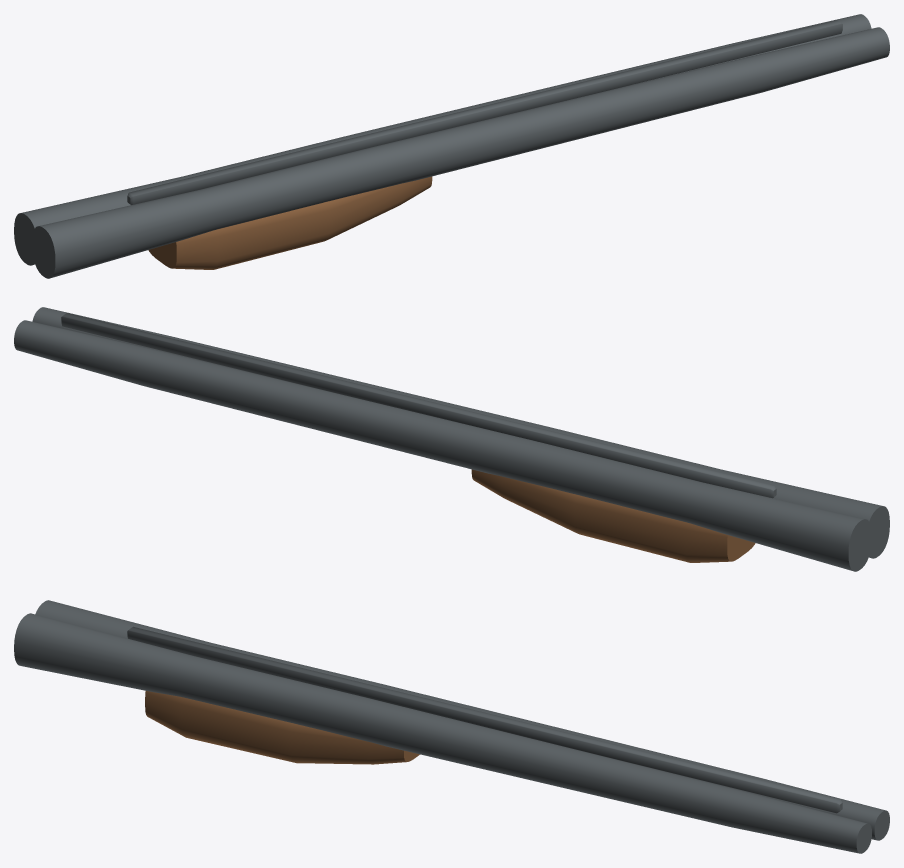
The model's file is shotgun.glb.
The picture shows the model from 3 angles, top to bottom: view 1: azimuth 30°, elevation 25°; view 2: azimuth 150°, elevation 25°; view 3: azimuth 330°, elevation 25°; orthographic projection.
Visible parts, largest first — view 1: Side by side barrel silhouette.001, Top sight line, Rounded supporting fore-end, Side by side barrel silhouette; view 2: Side by side barrel silhouette, Top sight line, Rounded supporting fore-end, Side by side barrel silhouette.001; view 3: Side by side barrel silhouette.001, Top sight line, Rounded supporting fore-end, Side by side barrel silhouette.
Part boxes in pixels (x1,y1,x2,y2): Side by side barrel silhouette.001: [32, 27, 889, 278]; Top sight line: [127, 20, 842, 205]; Rounded supporting fore-end: [148, 176, 432, 269]; Side by side barrel silhouette: [14, 14, 871, 265]; Side by side barrel silhouette: [14, 320, 871, 571]; Top sight line: [61, 313, 776, 498]; Rounded supporting fore-end: [471, 469, 755, 562]; Side by side barrel silhouette.001: [32, 307, 889, 558]; Side by side barrel silhouette.001: [14, 613, 871, 853]; Top sight line: [127, 626, 842, 813]; Rounded supporting fore-end: [145, 691, 419, 764]; Side by side barrel silhouette: [35, 600, 889, 840].
Size of the model in its own units: 1.19 by 0.1163 by 0.102.
